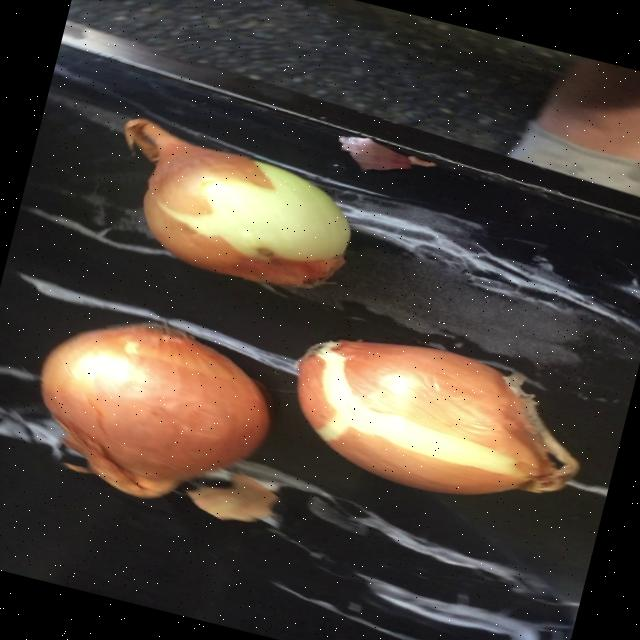Onion: (298, 339, 578, 493), (40, 322, 269, 496), (124, 117, 350, 285)
